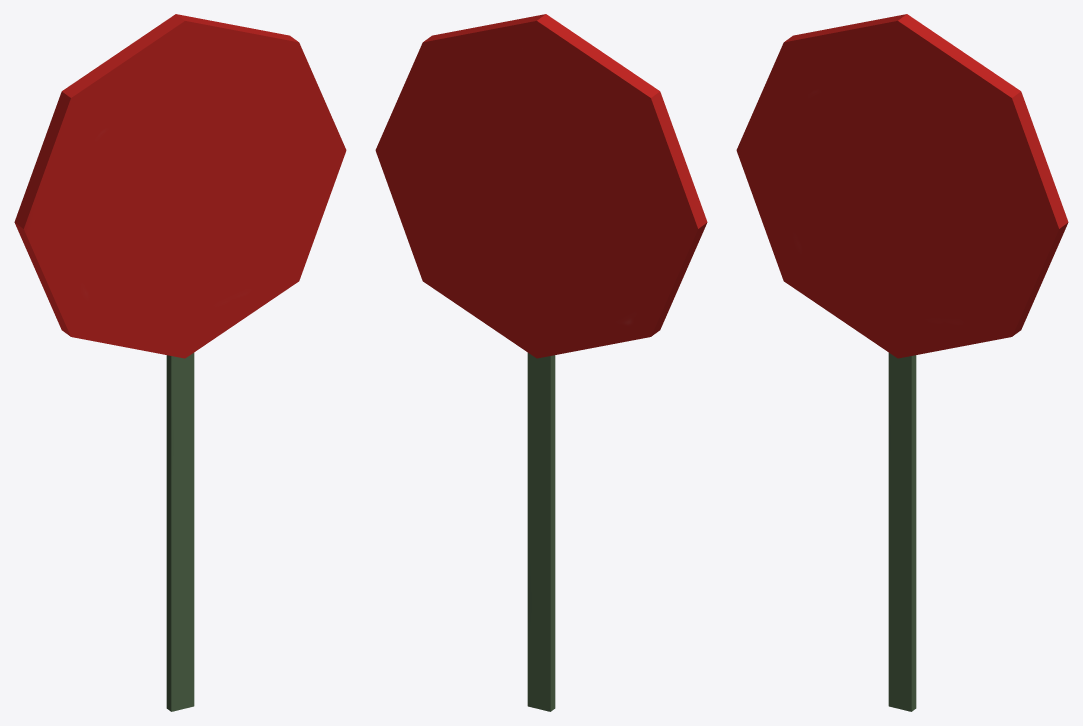
Rendered from Sign.fbx.
3 views of the same model, side by side, from view 1: azimuth 30°, elevation 25°; view 2: azimuth 150°, elevation 25°; view 3: azimuth 330°, elevation 25° (orthographic).
Parts seen in each view (by area): view 1: Cylinder; view 2: Cylinder; view 3: Cylinder.
Part boxes in pixels (bbox=[...]): Cylinder: bbox=[14, 14, 346, 711]; Cylinder: bbox=[375, 14, 707, 711]; Cylinder: bbox=[736, 14, 1068, 711].
Size of the model in its own units: 2 by 4.09 by 0.1.
